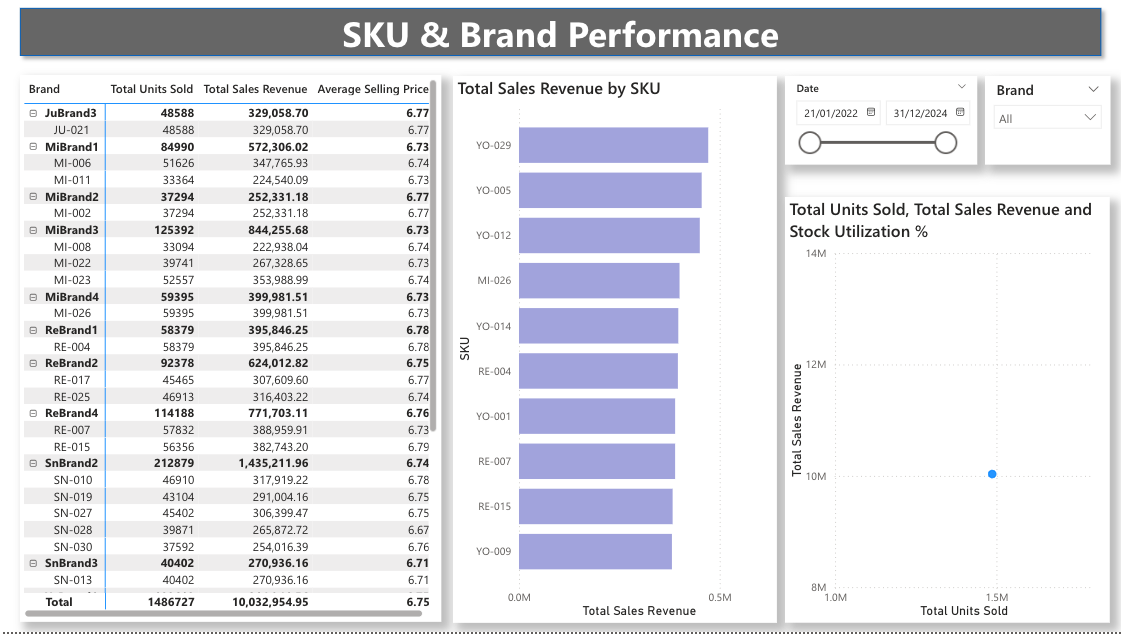

This screenshot's page, from the dashboard's own definition file:
{"tool":"powerbi","page":{"name":"SKU & Brand Drilldown","canvas":[1280,720],"ordinal":4},"visuals":[{"type":"shape","title":"Executive Sales & Inventory Overview","box":[14.2,0,1249.9,72.8],"z":0},{"type":"pivotTable","fields":{"Rows":["gold_sales_gold_for_bi.brand","gold_sales_gold_for_bi.sku"],"Values":["Measure Table.Total Units Sold","Measure Table.Total Sales Revenue","Measure Table.Average Selling Price"]},"box":[23.2,85.9,479.8,623],"z":1},{"type":"barChart","fields":{"Category":["gold_sales_gold_for_bi.sku"],"Y":["Measure Table.Total Sales Revenue"]},"box":[516.3,86.3,368.6,622.6],"z":2},{"type":"slicer","fields":{"Values":["gold_sales_gold_for_bi.date"]},"box":[894.8,86.3,219.1,101.3],"z":3},{"type":"slicer","fields":{"Values":["gold_sales_gold_for_bi.brand"]},"box":[1122.3,86.3,142.8,101.3],"z":4},{"type":"scatterChart","fields":{"X":["Measure Table.Total Units Sold"],"Y":["Measure Table.Total Sales Revenue"]},"box":[894.8,224.1,370.2,484.8],"z":5}]}

Visuals, with their boxes in screenshot pixels (x1, y1, x2, y2), scaled from the page's 1280x720 canvas onto the 1121x637 screenshot:
"Executive Sales & Inventory Overview" shape: bbox(12, 0, 1107, 64)
pivotTable - gold_sales_gold_for_bi.brand x gold_sales_gold_for_bi.sku: bbox(20, 76, 441, 627)
barChart - gold_sales_gold_for_bi.sku x Measure Table.Total Sales Revenue: bbox(452, 76, 775, 627)
slicer - gold_sales_gold_for_bi.date: bbox(784, 76, 976, 166)
slicer - gold_sales_gold_for_bi.brand: bbox(983, 76, 1108, 166)
scatterChart - Measure Table.Total Units Sold x Measure Table.Total Sales Revenue: bbox(784, 198, 1108, 627)
